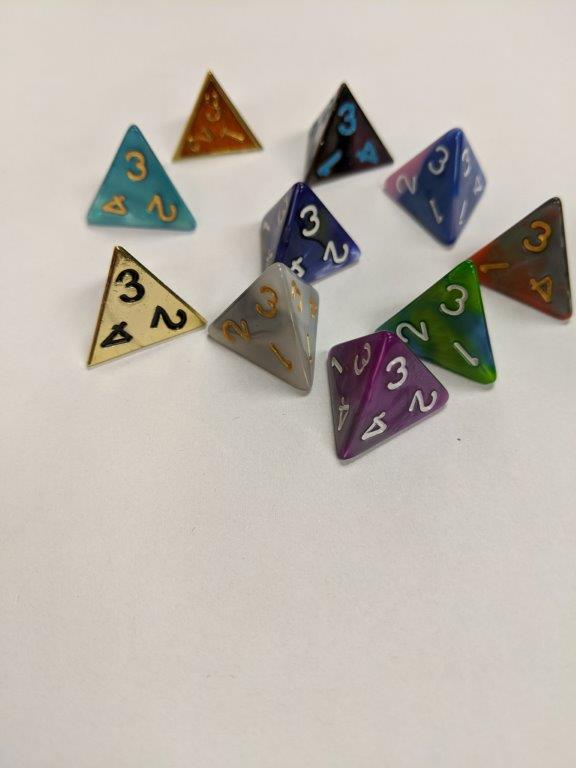d4-3: (370, 258, 497, 393), (203, 261, 322, 399), (326, 328, 447, 459), (85, 242, 205, 374), (464, 193, 575, 324), (380, 124, 487, 246), (260, 177, 366, 296), (87, 125, 197, 236), (171, 70, 267, 168), (306, 81, 391, 189)
